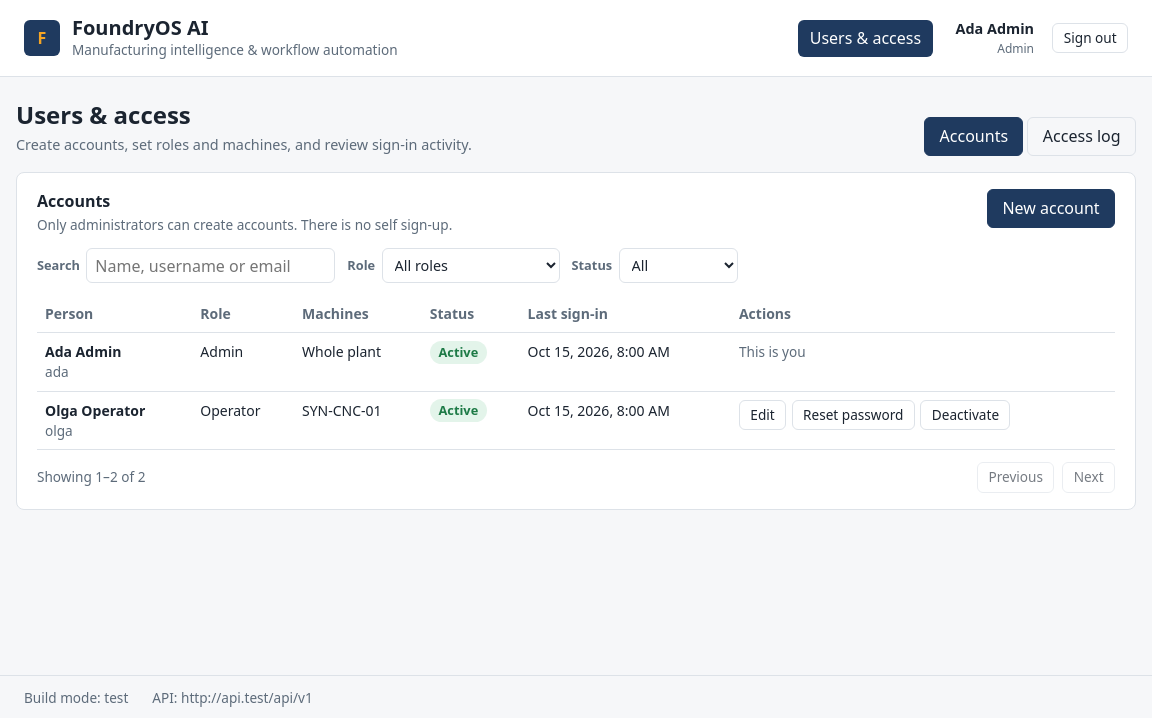
it: AdminPage › resets a password and shows the new one-time password
This screenshot has width=1152, height=718.
Step 1. Click the button "Reset password" → [853, 415], box [792,400,915,430]
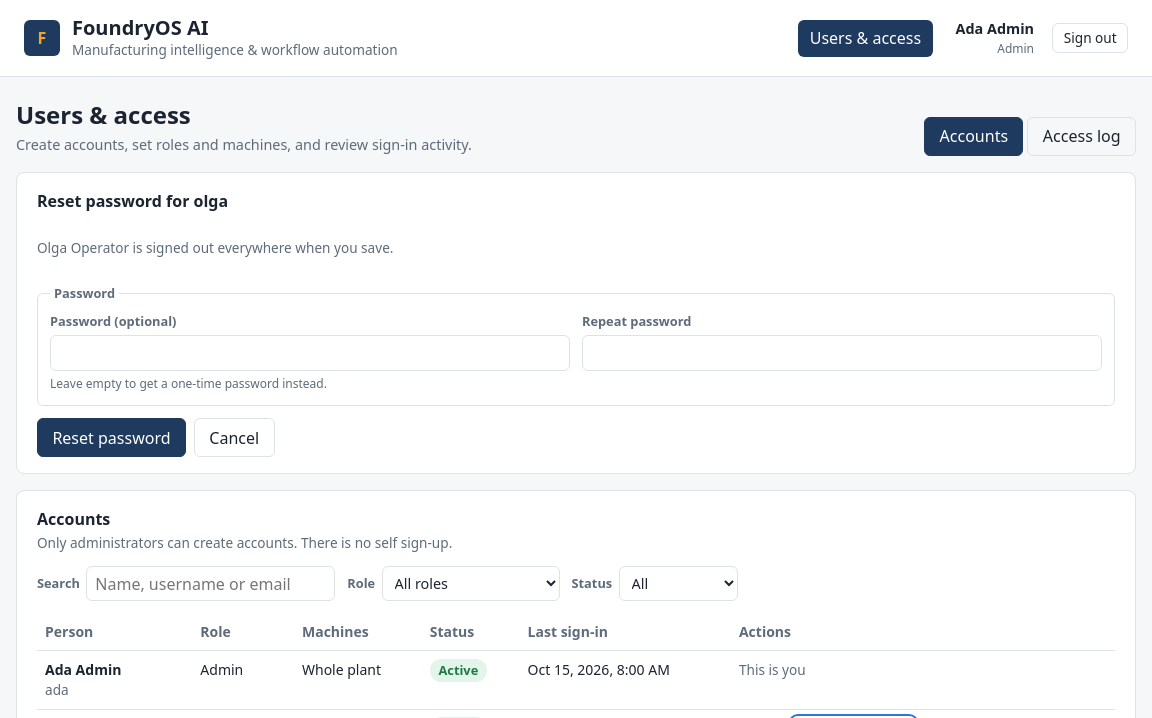
Step 2. Click the button "Reset password" below "Password (optional)" → [111, 438], box [37,418,186,457]
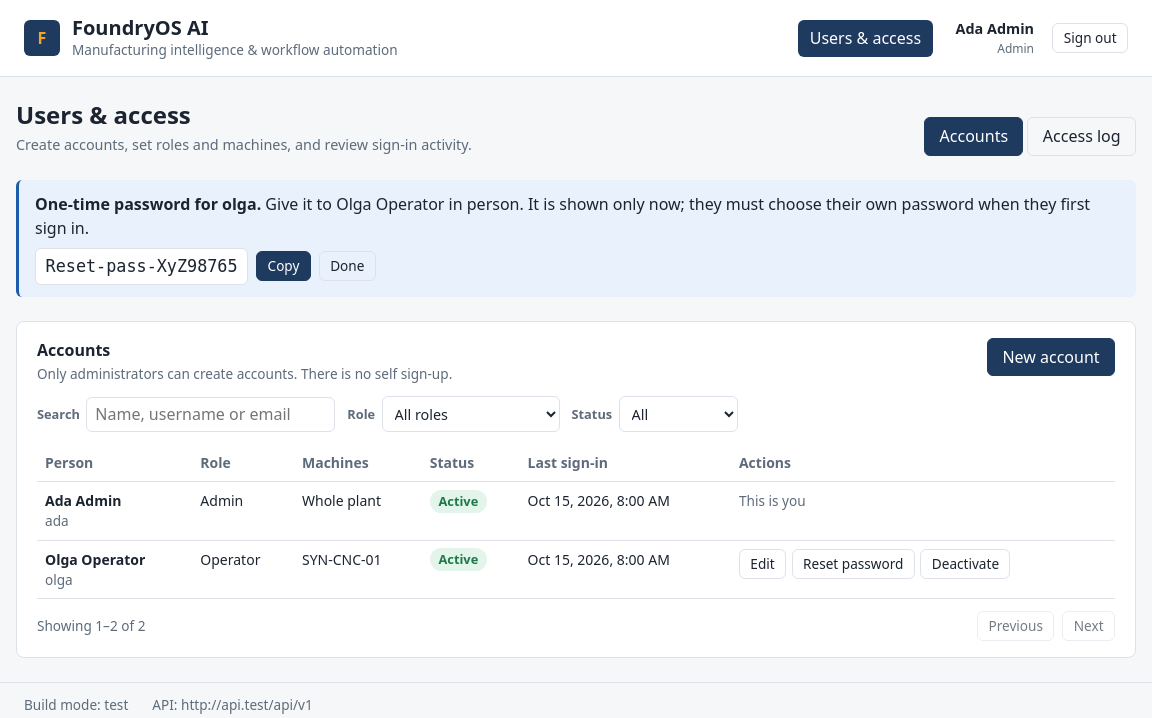
Expected: the message "One-time password" shows "Reset-pass-XyZ98765", [46,256,238,276]
